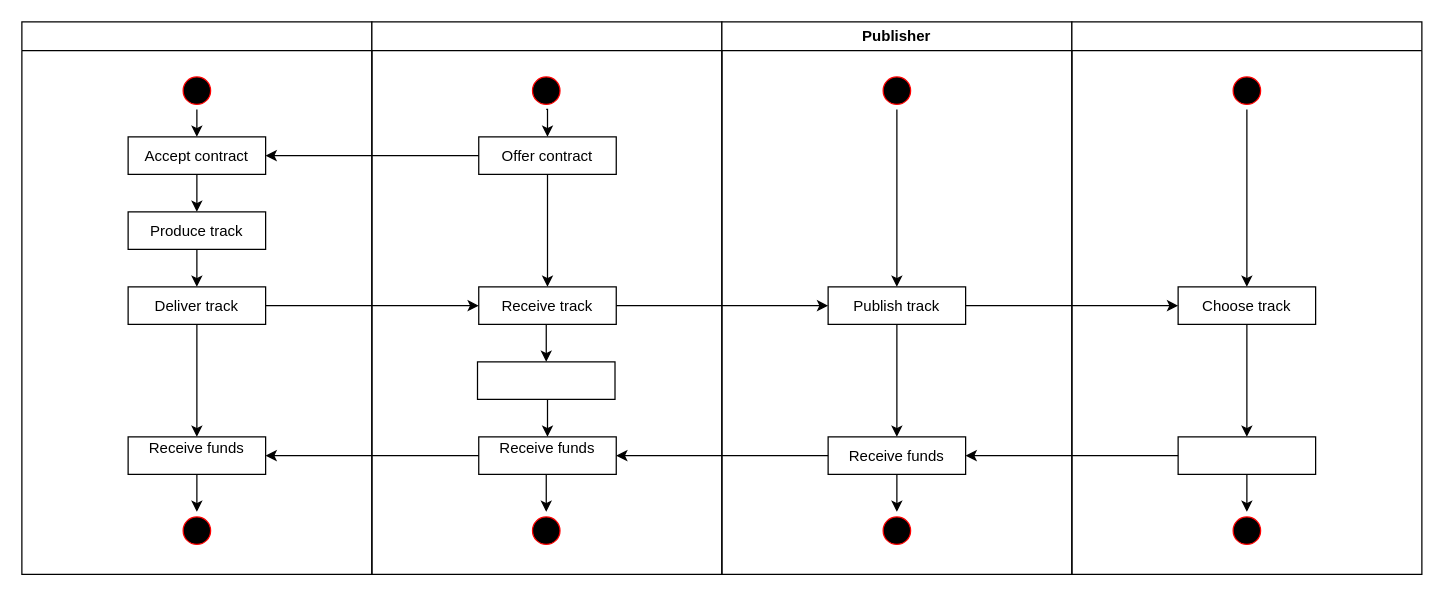
Image size: 1444x596. Some labels were removed from this diagram. The shapes that lost their labels are listed below. From the top down, each one's box as (x1, y1, x2, y2) in pixels, then its label:
(21, 21, 372, 574): Artist
(371, 21, 722, 574): Label
(1071, 21, 1422, 574): Listener
(476, 361, 615, 399): Promote track
(1177, 436, 1316, 474): Buy track
